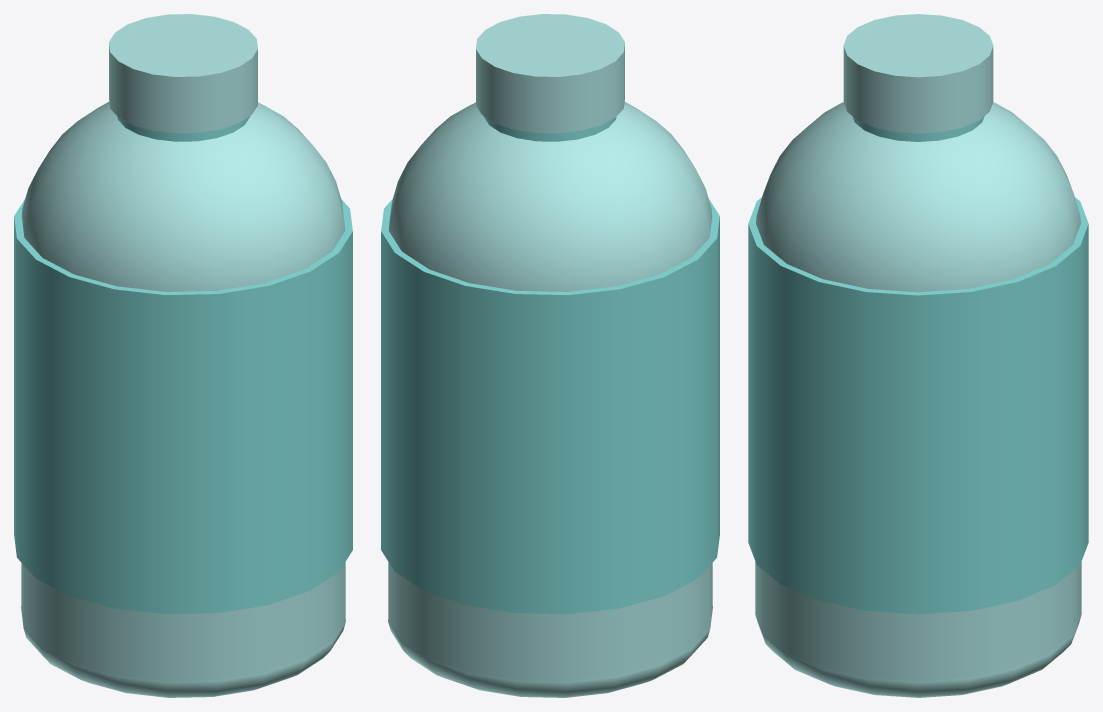
File: water bottle.fbx
3 renders of one model, left to right at view 1: azimuth 30°, elevation 25°; view 2: azimuth 150°, elevation 25°; view 3: azimuth 270°, elevation 25°, orthographic.
Visible parts, largest first — view 1: pTorus3; view 2: pTorus3; view 3: pTorus3.
Part boxes in pixels (x1,y1,x2,y2): pTorus3: (14, 14, 352, 697); pTorus3: (381, 14, 719, 697); pTorus3: (748, 14, 1088, 697).
Bounding box in the file's own units: 5.08 × 9.85 × 5.08.
